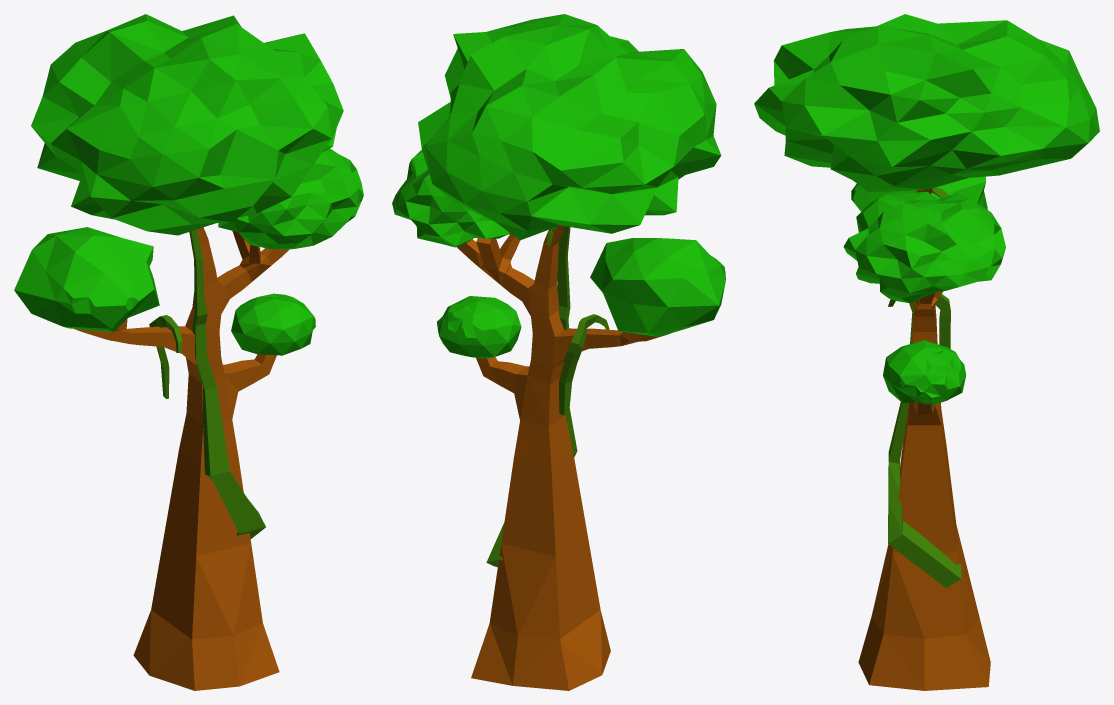
The model's file is jungletree1 (1).fbx.
3 views of the same model, side by side, from view 1: azimuth 30°, elevation 25°; view 2: azimuth 150°, elevation 25°; view 3: azimuth 270°, elevation 25° (orthographic).
Visible parts, largest first — view 1: Icosphere, Cube, Icosphere.002, Icosphere.001, Cube.001, Icosphere.003, Cube.002; view 2: Icosphere, Cube, Icosphere.002, Icosphere.001, Icosphere.003, Cube.001, Cube.002; view 3: Icosphere, Cube, Icosphere.001, Icosphere.003, Cube.001, Icosphere.002, Cube.002.
Boxes of the visible parts, box(x1,y1,x2,y2) form: Icosphere: box(31, 14, 343, 235); Cube: box(74, 227, 289, 690); Icosphere.002: box(14, 227, 159, 331); Icosphere.001: box(218, 148, 363, 249); Cube.001: box(189, 229, 265, 538); Icosphere.003: box(231, 293, 315, 355); Cube.002: box(149, 315, 182, 398); Icosphere: box(418, 14, 721, 240); Cube: box(457, 225, 669, 690); Icosphere.002: box(590, 238, 725, 336); Icosphere.001: box(392, 150, 510, 247); Icosphere.003: box(437, 296, 521, 358); Cube.001: box(486, 226, 577, 567); Cube.002: box(559, 314, 609, 415); Icosphere: box(754, 14, 1099, 192); Cube: box(858, 188, 990, 690); Icosphere.001: box(843, 191, 1005, 303); Icosphere.003: box(883, 340, 966, 404); Cube.001: box(888, 187, 961, 587); Icosphere.002: box(851, 176, 987, 211); Cube.002: box(888, 294, 950, 348).
Size of the model in its own units: 1235 by 2265 by 1126.
